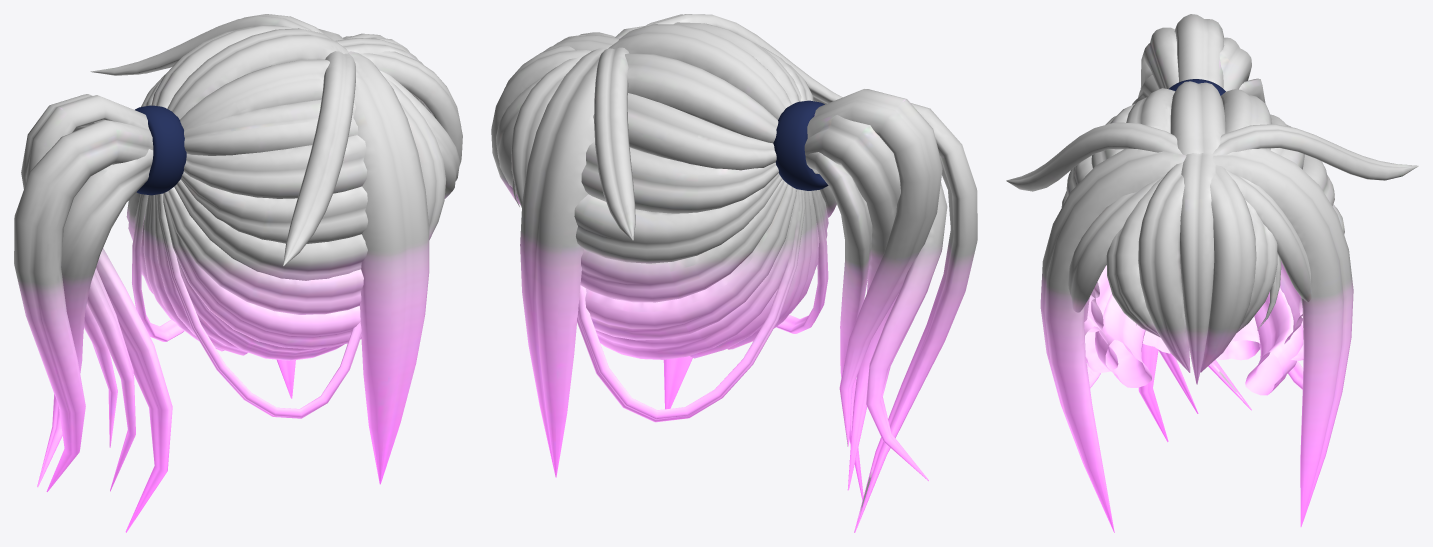
The model's file is HairAndBand.fbx.
3 views of the same model, side by side, from view 1: azimuth 30°, elevation 25°; view 2: azimuth 150°, elevation 25°; view 3: azimuth 270°, elevation 25° (orthographic). The views are drawn at different scales.
Visible parts, largest first — view 1: HairMesh, HairBand; view 2: HairMesh, HairBand; view 3: HairMesh.
Boxes of the visible parts, <box> form: HairMesh: <box>14,14,462,532</box>; HairBand: <box>135,105,186,195</box>; HairMesh: <box>491,14,977,532</box>; HairBand: <box>773,100,828,190</box>; HairMesh: <box>1006,14,1418,532</box>.
Bounding box in the file's own units: 81.58 × 78.18 × 69.54.
2 materials, 2 textured.
